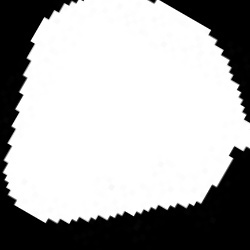spot: (6, 2, 249, 224)
